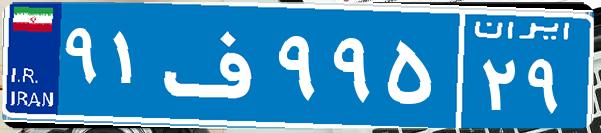1: (110, 28, 158, 105)
2: (475, 38, 525, 113)
5: (385, 28, 445, 110)
9: (273, 28, 330, 110), (330, 28, 385, 110), (57, 26, 110, 107), (525, 38, 570, 115)
ف: (158, 15, 273, 115)
